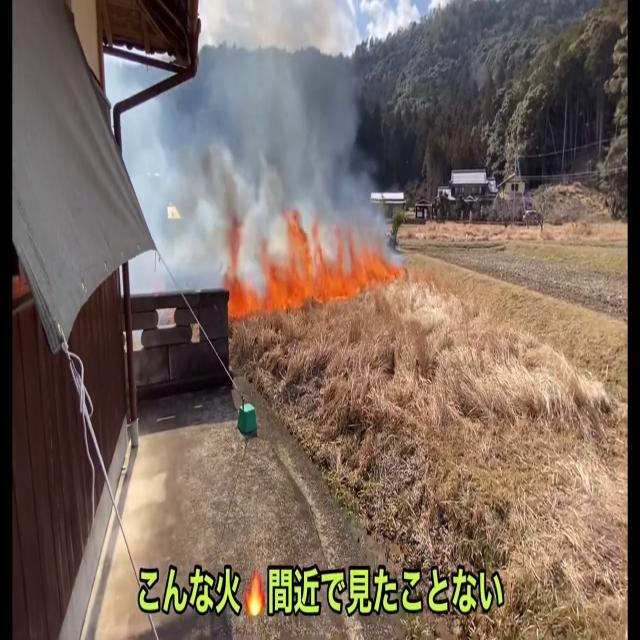Fire: (283, 154, 397, 326), (218, 246, 293, 310)
Smoke: (125, 20, 382, 262)
